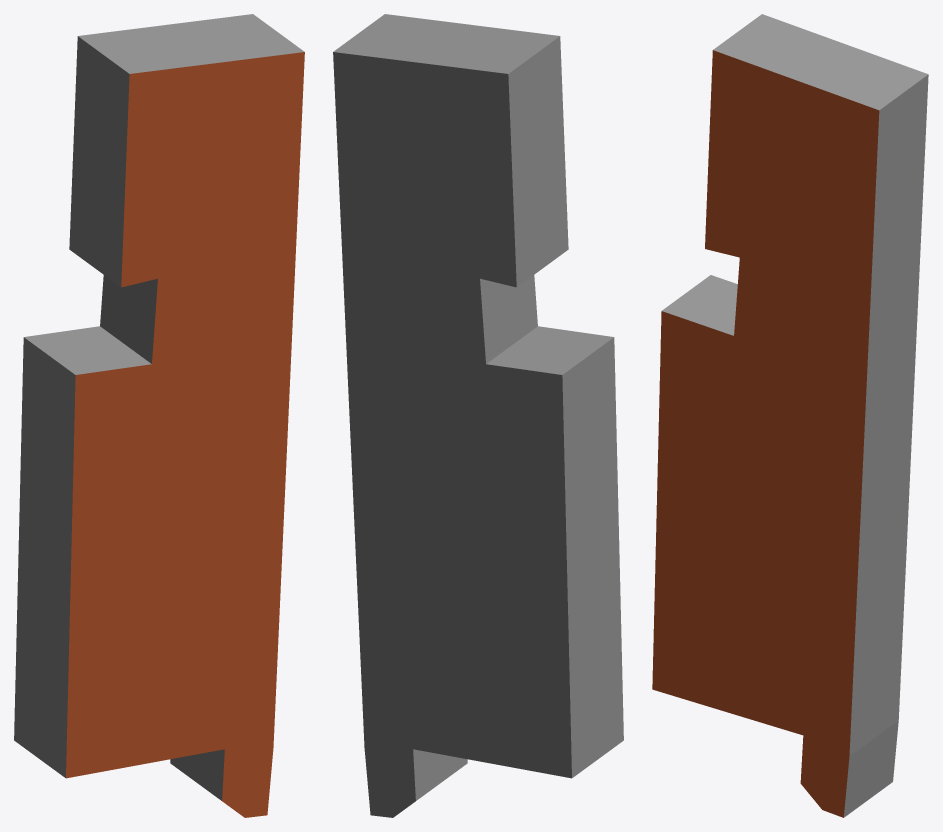
File: construction_6573_assumed_A_Casa_h6m.obj
3 renders of one model, left to right at view 1: azimuth 30°, elevation 25°; view 2: azimuth 150°, elevation 25°; view 3: azimuth 330°, elevation 25°, orthographic. The views are drawn at different scales.
Parts seen in each view (by area): view 1: construction_6573_assumed_A_Casa; view 2: construction_6573_assumed_A_Casa; view 3: construction_6573_assumed_A_Casa.
Boxes of the visible parts, <box> form: construction_6573_assumed_A_Casa: <box>14,14,304,817</box>; construction_6573_assumed_A_Casa: <box>333,14,623,817</box>; construction_6573_assumed_A_Casa: <box>652,14,928,817</box>.
Size of the model in its own units: 15.96 by 49.44 by 6.
